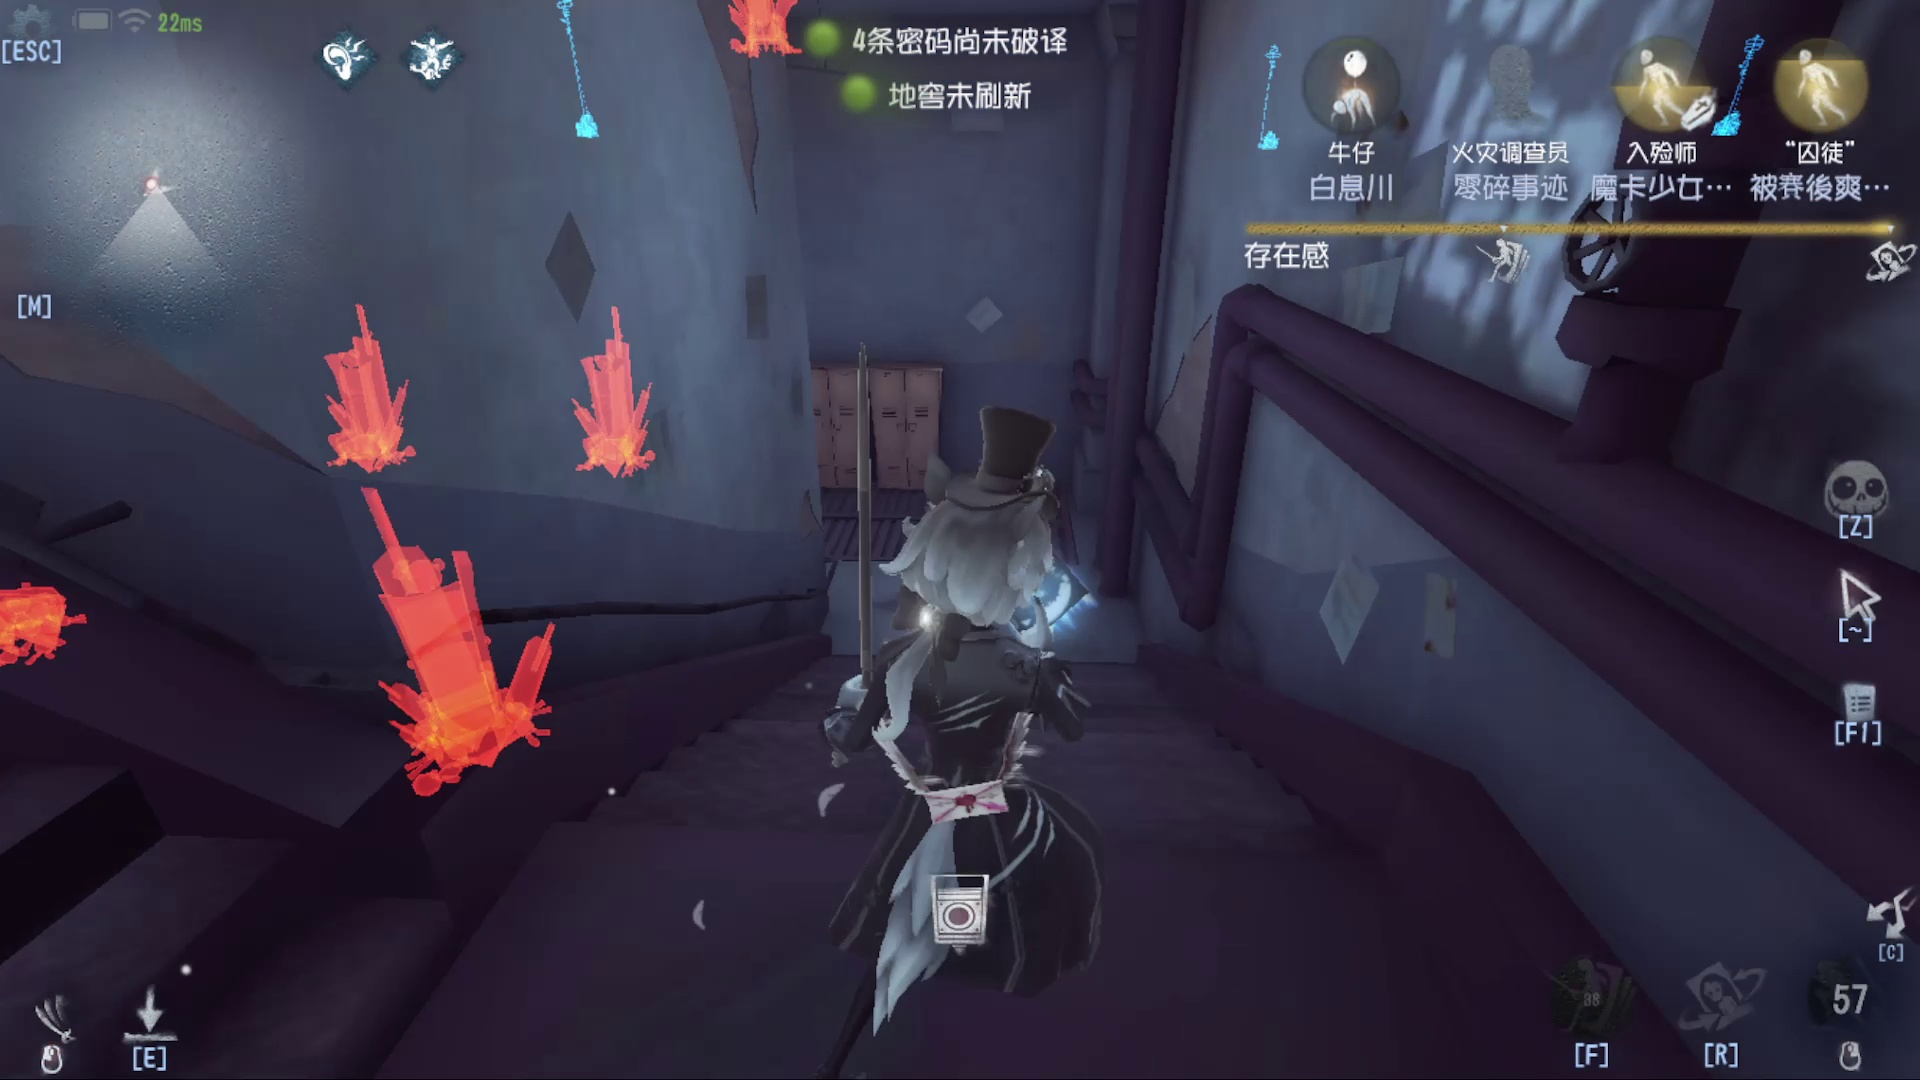狂欢之椅: (326, 493, 571, 783), (274, 301, 434, 491), (566, 319, 676, 498)
